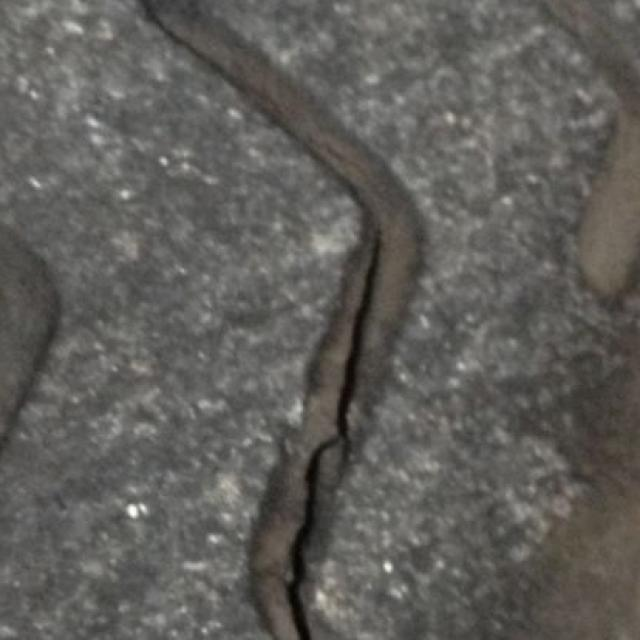Cracks: (136, 1, 429, 638)
